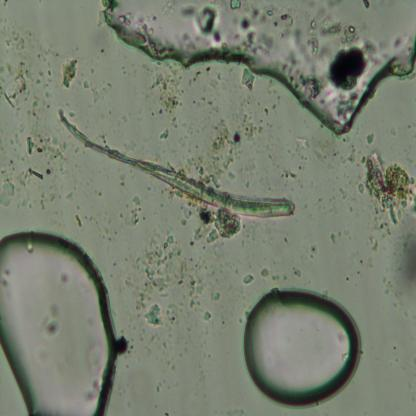Air bubble: (104, 0, 416, 138), (0, 229, 116, 415), (245, 287, 363, 408)
Background material: (128, 234, 204, 306), (359, 150, 416, 231), (190, 121, 242, 183), (228, 102, 266, 152), (152, 62, 184, 114), (181, 3, 222, 43), (252, 2, 295, 40), (297, 138, 340, 176), (393, 222, 416, 291), (330, 48, 368, 89), (306, 19, 359, 46), (0, 65, 33, 104), (188, 203, 218, 245), (30, 70, 60, 110), (0, 28, 30, 60), (25, 136, 63, 160), (42, 298, 65, 333), (216, 210, 242, 238), (238, 16, 256, 54), (128, 193, 146, 229), (299, 74, 326, 97), (60, 56, 78, 88), (276, 164, 298, 190), (332, 188, 354, 213), (90, 80, 115, 102), (146, 302, 164, 328), (240, 68, 258, 91), (0, 182, 15, 209), (362, 231, 380, 252), (20, 168, 43, 184), (116, 336, 132, 358), (67, 210, 84, 229), (36, 194, 50, 216), (154, 381, 170, 395), (259, 263, 272, 280), (198, 62, 212, 77), (241, 272, 255, 285), (230, 0, 243, 14), (347, 147, 357, 165), (329, 232, 339, 248), (159, 126, 170, 140), (202, 310, 211, 324), (366, 132, 376, 144), (211, 290, 221, 302), (309, 243, 318, 254), (294, 268, 302, 280), (82, 80, 89, 92)
Microfibre: (57, 108, 294, 222)
